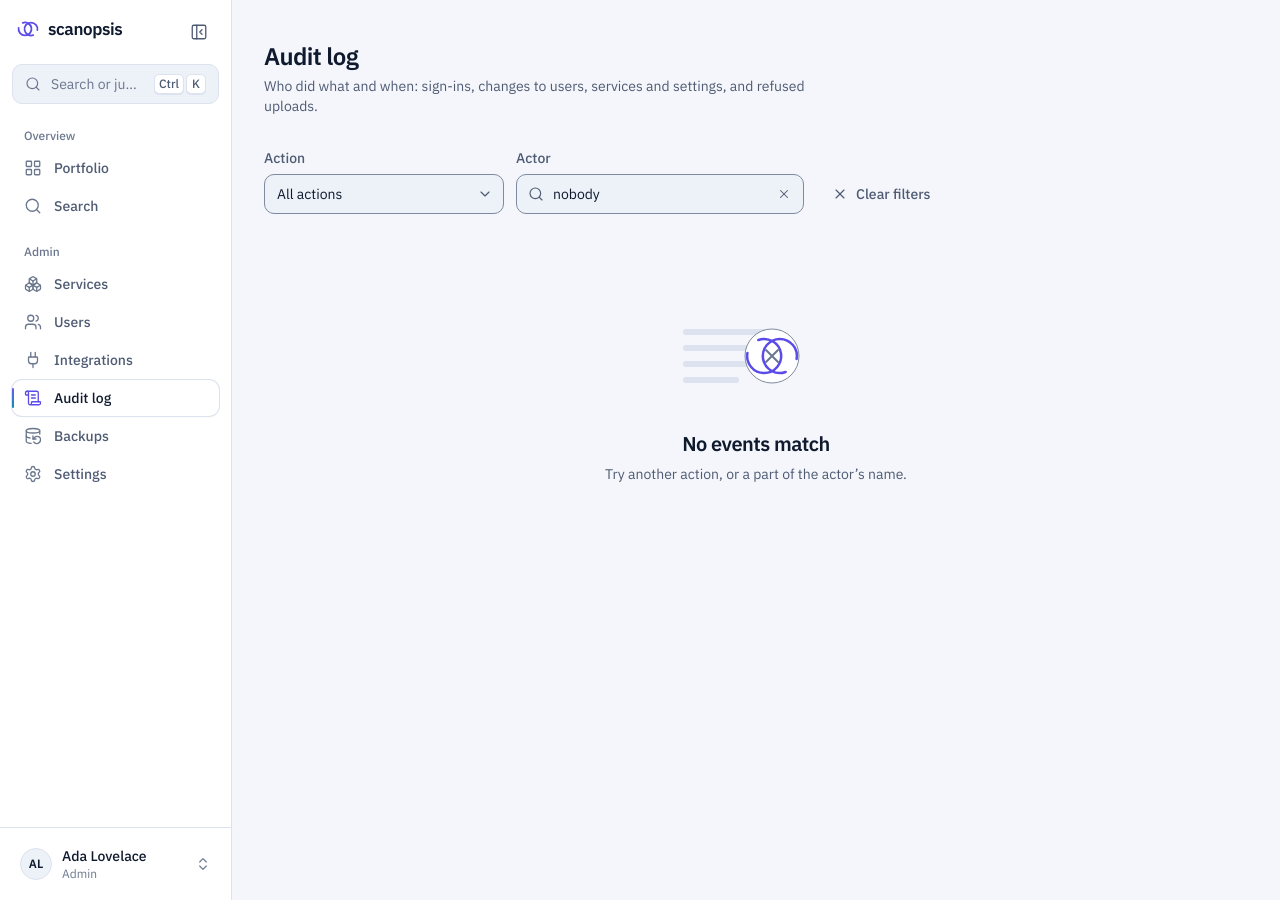
audit page › shows an empty state with and without filters
Expected: the heading "No events match" is shown, top-left (682, 430), bottom-right (830, 458)
Click the button "Clear filters".
click(881, 194)  # box top-left (816, 174), bottom-right (946, 214)
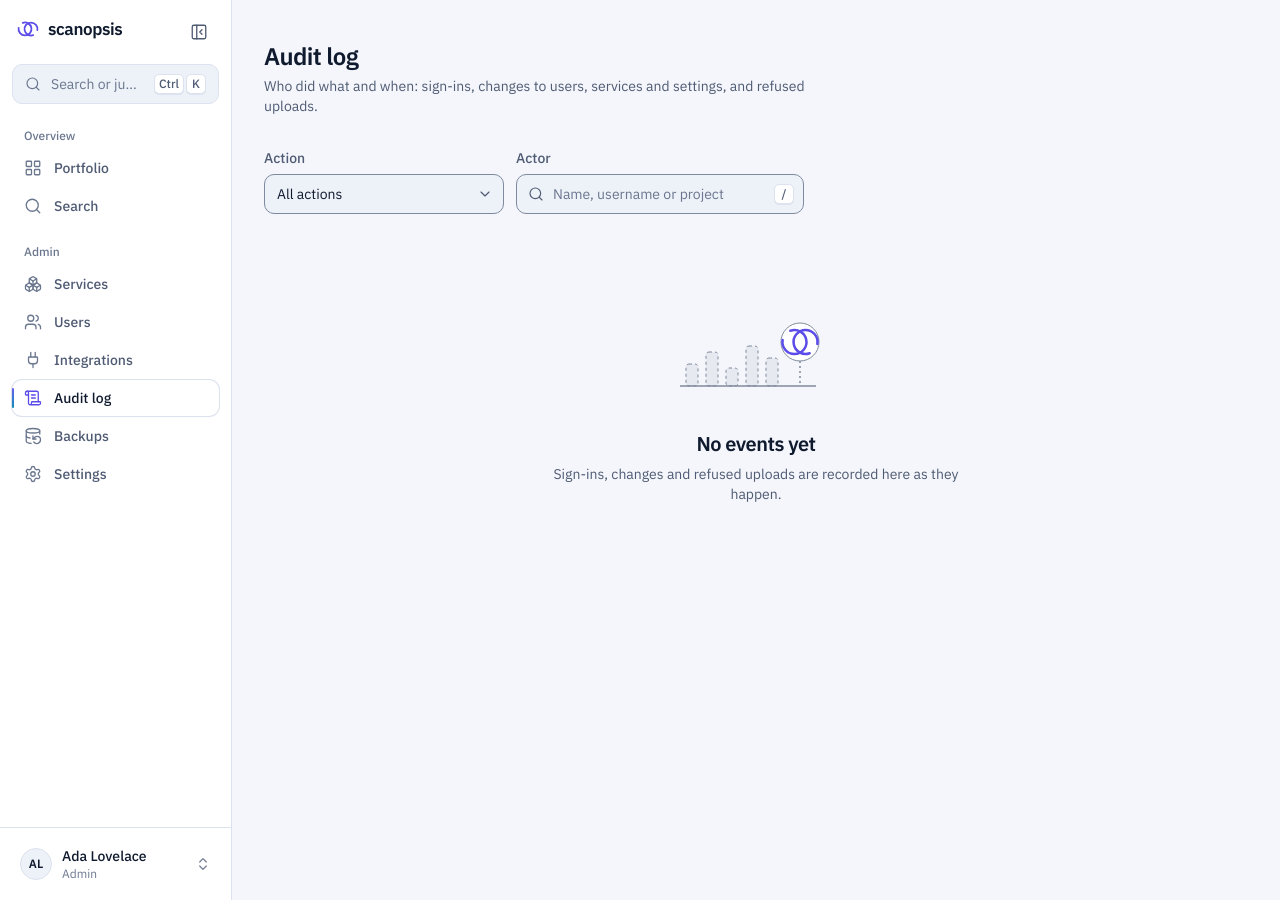
Expected: the heading "No events yet" is shown, top-left (696, 430), bottom-right (816, 458)
